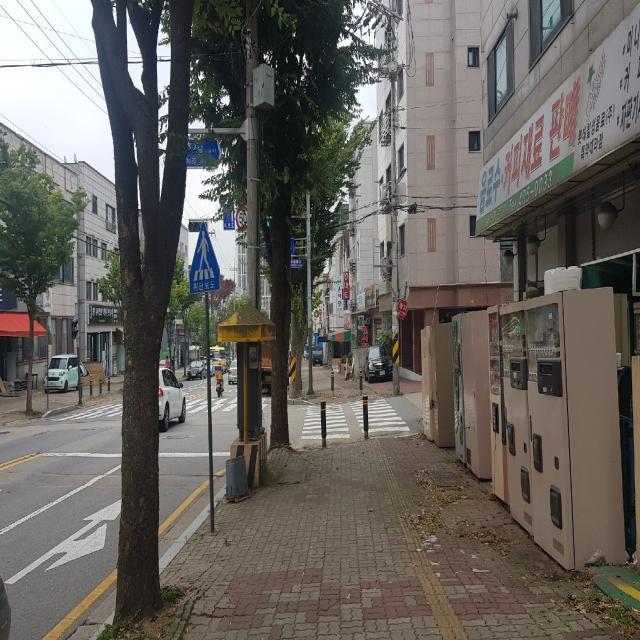횡단보도: (300, 398, 410, 441)
